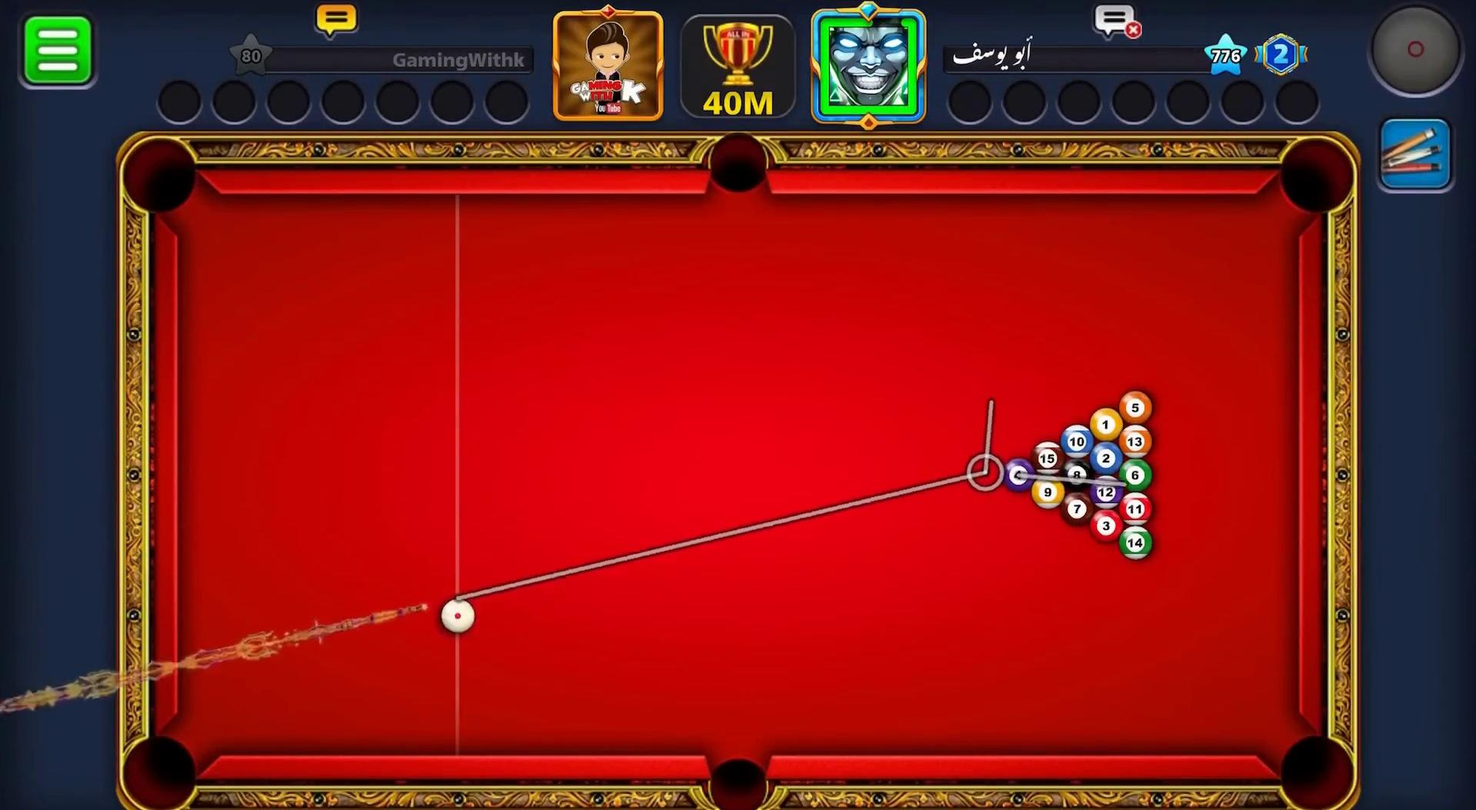Ball: (1118, 389, 1154, 425), (1061, 489, 1095, 526), (1119, 526, 1153, 562), (1091, 475, 1124, 511), (1118, 426, 1154, 459), (1032, 475, 1065, 509), (1120, 493, 1153, 526), (1121, 457, 1153, 491), (1003, 458, 1035, 491), (1033, 441, 1065, 474), (1061, 424, 1093, 457), (1091, 408, 1122, 442), (1092, 509, 1122, 543), (1091, 443, 1123, 472), (1061, 460, 1091, 490)
Guideline: (457, 392, 1002, 611), (1019, 464, 1128, 492), (964, 453, 1003, 491)
Hole: (116, 730, 200, 810), (121, 136, 203, 216), (1283, 136, 1357, 221), (1280, 733, 1357, 810), (704, 136, 772, 197), (708, 757, 769, 810)
Play_Area: (180, 197, 1288, 755)
Spin: (1367, 5, 1467, 101)
White: (438, 598, 477, 632)
